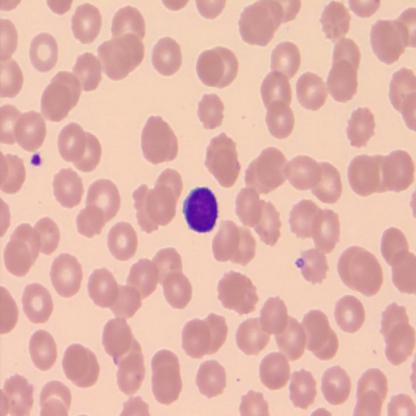Lymphocyte: (182, 185, 219, 234)
